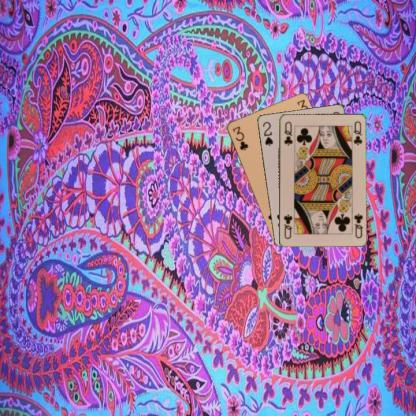2s: (260, 119, 274, 147)
3c: (230, 124, 249, 152)
Qc: (351, 211, 364, 239), (282, 119, 294, 146)
